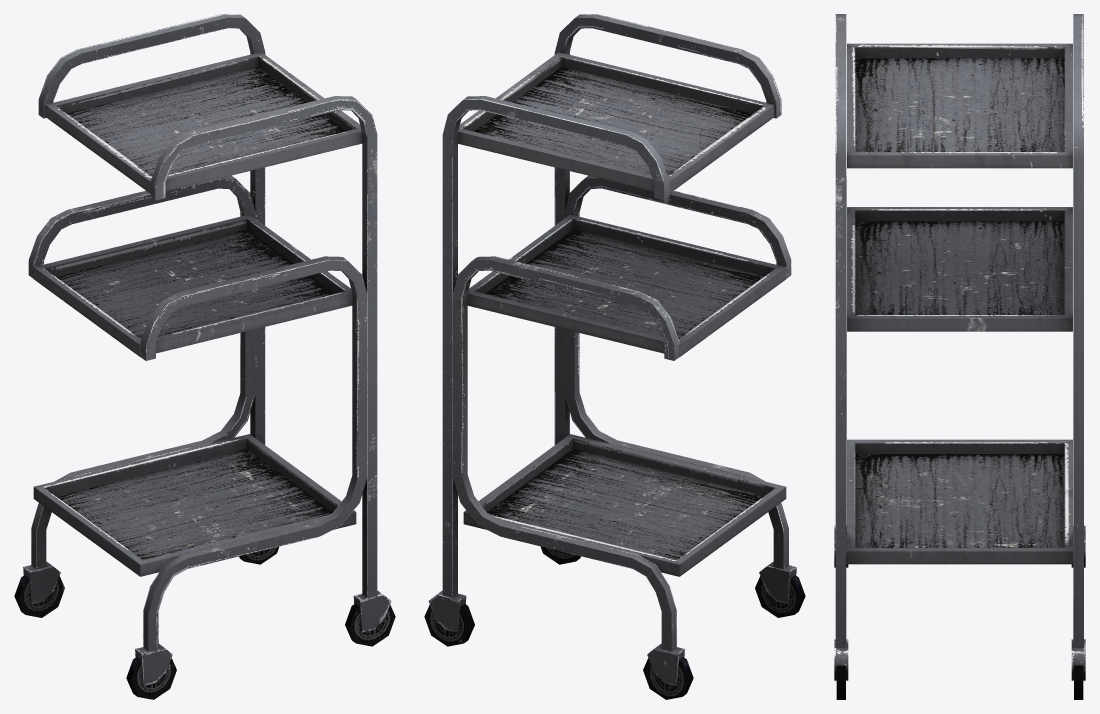
3 views of the same model, side by side, from view 1: azimuth 30°, elevation 25°; view 2: azimuth 150°, elevation 25°; view 3: azimuth 270°, elevation 25° (orthographic). The views are drawn at different scales.
Visible parts, largest first — view 1: SD; view 2: SD; view 3: SD.
Part boxes in pixels (x1=…): SD: x1=14, y1=14, x2=395, y2=699; SD: x1=424, y1=14, x2=805, y2=699; SD: x1=834, y1=14, x2=1085, y2=699.
Size of the model in its own units: 20.64 by 41.33 by 16.
